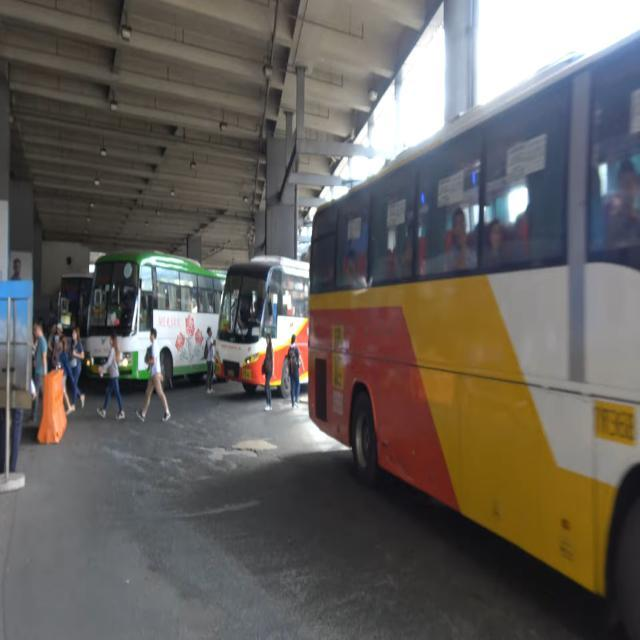bus: (308, 26, 640, 627), (84, 250, 229, 390), (218, 254, 312, 395)
